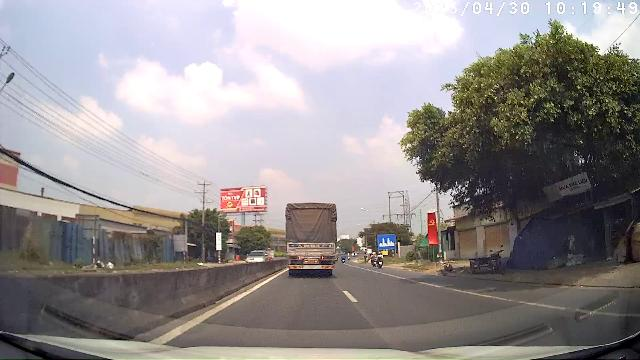420-bat-dau-khu-dong-dan-cu: (378, 235, 396, 248)
